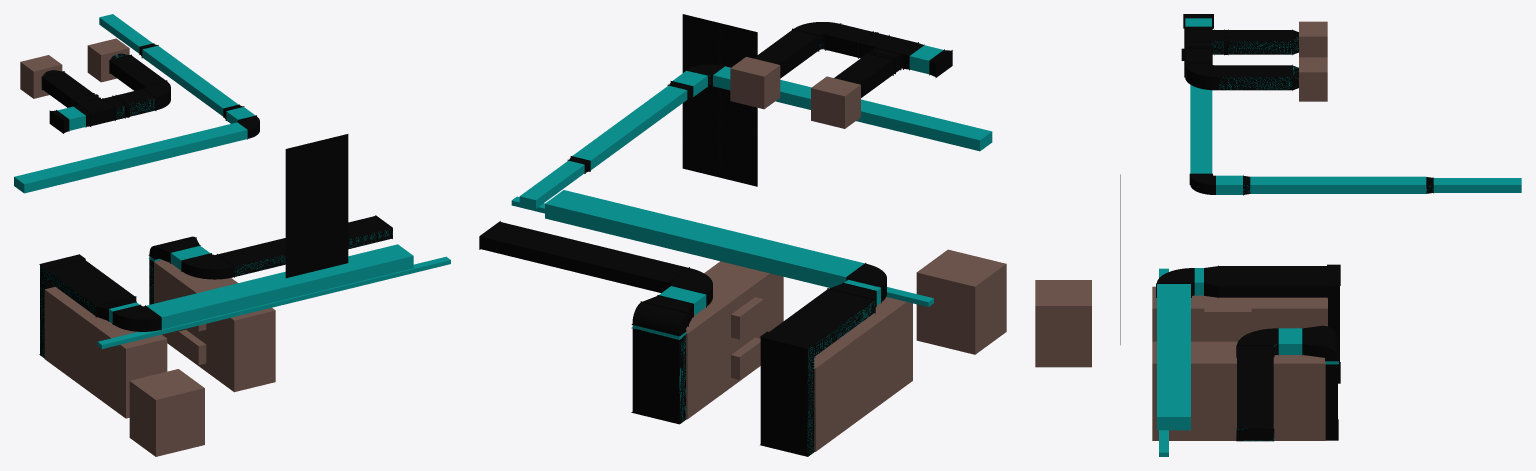
File: GCC-AAV-13220-30.nwd(27).fbx
3 renders of one model, left to right at view 1: azimuth 30°, elevation 25°; view 2: azimuth 150°, elevation 25°; view 3: azimuth 270°, elevation 25°, orthographic. The views are drawn at different scales.
Parts seen in each view (by area): view 1: Параллелепипед (×6), BOX 1 of EQUIPMENT /794-13220-BD-001-ACCU-201A, BOX 1 of EQUIPMENT /794-13220-BD-001-AHU-305B, BOX 1 of EQUIPMENT /794-13220-BD-001-AHU-303B, BOX 1 of EQUIPMENT /794-13220-BD-001-AHU-305A, BOX 1 of EQUIPMENT /794-13220-BD-001-AHU-303A, STRT 1 of BRANCH /794-13220-BD-001-AHU-303A-SAA-0001-001, STRT 2 of BRANCH /794-13220-BD-001-AHU-305A-SAA-0001-001, /794-13220-BD-001-LG-674, /794-13220-BD-001-LG-673, /794-13220-BD-001-LG-672, /794-13220-BD-001-LG-677 (+14 smaller); view 2: Параллелепипед (×7), BOX 1 of EQUIPMENT /794-13220-BD-001-ACCU-201A, STRT 1 of BRANCH /794-13220-BD-001-AHU-303A-SAA-0001-001, STRT 1 of BRANCH /794-13220-BD-001-AHU-305A-SAA-0001-001, BOX 1 of EQUIPMENT /794-13220-BD-001-AHU-305B, BOX 1 of EQUIPMENT /794-13220-BD-001-AHU-303B, STRT 2 of BRANCH /794-13220-BD-001-AHU-303A-SAA-0001-001, BOX 1 of EQUIPMENT /794-13220-BD-001-AHU-305A, STRT 2 of BRANCH /794-13220-BD-001-AHU-305A-SAA-0001-001, BOX 1 of EQUIPMENT /794-13220-BD-001-AHU-303A, BOX 1 of EQUIPMENT /794-13220-BD-001-EF-310A, BOX 1 of EQUIPMENT /794-13220-BD-001-EF-310B (+14 smaller); view 3: Параллелепипед (×6), BOX 1 of EQUIPMENT /794-13220-BD-001-AHU-303B, BOX 1 of EQUIPMENT /794-13220-BD-001-ACCU-201A, BOX 1 of EQUIPMENT /794-13220-BD-001-AHU-303A, BOX 1 of EQUIPMENT /794-13220-BD-001-AHU-305B, STRT 1 of BRANCH /794-13220-BD-001-AHU-303A-SAA-0001-001, STRT 2 of BRANCH /794-13220-BD-001-AHU-305A-SAA-0001-001, STRT 3 of BRANCH /794-13220-BD-001-EF-310B-EA-0001-003, STRT 8 of BRANCH /794-13220-BD-001-EF-310B-EA-0001-001, BOX 1 of EQUIPMENT /794-13220-BD-001-EF-310A, BOX 1 of EQUIPMENT /794-13220-BD-001-HCU-305B, BOX 1 of EQUIPMENT /794-13220-BD-001-EF-310B (+8 smaller).
Boxes of the visible parts, x1,y1,x2,y2 form: Параллелепипед (×6): (14,14,450,348); BOX 1 of EQUIPMENT /794-13220-BD-001-ACCU-201A: (129,369,204,456); BOX 1 of EQUIPMENT /794-13220-BD-001-AHU-305B: (44,287,167,381); BOX 1 of EQUIPMENT /794-13220-BD-001-AHU-303B: (154,260,275,354); BOX 1 of EQUIPMENT /794-13220-BD-001-AHU-305A: (44,322,129,418); BOX 1 of EQUIPMENT /794-13220-BD-001-AHU-303A: (154,296,275,392); STRT 1 of BRANCH /794-13220-BD-001-AHU-303A-SAA-0001-001: (218,215,392,276); STRT 2 of BRANCH /794-13220-BD-001-AHU-305A-SAA-0001-001: (45,259,134,315); /794-13220-BD-001-LG-674: (317,134,348,184); /794-13220-BD-001-LG-673: (317,177,348,227); /794-13220-BD-001-LG-672: (317,220,348,270); /794-13220-BD-001-LG-677: (285,141,316,191); Параллелепипед (×7): (511,45,992,315); BOX 1 of EQUIPMENT /794-13220-BD-001-ACCU-201A: (916,249,1006,354); STRT 1 of BRANCH /794-13220-BD-001-AHU-303A-SAA-0001-001: (479,221,688,292); STRT 1 of BRANCH /794-13220-BD-001-AHU-305A-SAA-0001-001: (760,337,814,456); BOX 1 of EQUIPMENT /794-13220-BD-001-AHU-305B: (814,297,912,407); BOX 1 of EQUIPMENT /794-13220-BD-001-AHU-303B: (686,261,783,373); STRT 2 of BRANCH /794-13220-BD-001-AHU-303A-SAA-0001-001: (631,327,686,424); BOX 1 of EQUIPMENT /794-13220-BD-001-AHU-305A: (814,337,912,451); STRT 2 of BRANCH /794-13220-BD-001-AHU-305A-SAA-0001-001: (769,288,875,357); BOX 1 of EQUIPMENT /794-13220-BD-001-AHU-303A: (686,304,783,419); BOX 1 of EQUIPMENT /794-13220-BD-001-EF-310A: (730,56,780,109); BOX 1 of EQUIPMENT /794-13220-BD-001-EF-310B: (811,76,860,128); Параллелепипед (×6): (1157,85,1521,430); BOX 1 of EQUIPMENT /794-13220-BD-001-AHU-303B: (1152,341,1325,399); BOX 1 of EQUIPMENT /794-13220-BD-001-ACCU-201A: (1035,280,1091,367); BOX 1 of EQUIPMENT /794-13220-BD-001-AHU-303A: (1152,400,1325,440); BOX 1 of EQUIPMENT /794-13220-BD-001-AHU-305B: (1152,286,1327,341); STRT 1 of BRANCH /794-13220-BD-001-AHU-303A-SAA-0001-001: (1236,345,1274,441); STRT 2 of BRANCH /794-13220-BD-001-AHU-305A-SAA-0001-001: (1218,266,1327,298); STRT 3 of BRANCH /794-13220-BD-001-EF-310B-EA-0001-003: (1217,65,1292,90); STRT 8 of BRANCH /794-13220-BD-001-EF-310B-EA-0001-001: (1228,30,1292,54); BOX 1 of EQUIPMENT /794-13220-BD-001-EF-310A: (1299,57,1327,101); BOX 1 of EQUIPMENT /794-13220-BD-001-HCU-305B: (1204,307,1251,333); BOX 1 of EQUIPMENT /794-13220-BD-001-EF-310B: (1299,21,1327,57).
Bounding box in the file's own units: 828 × 582 × 783.
